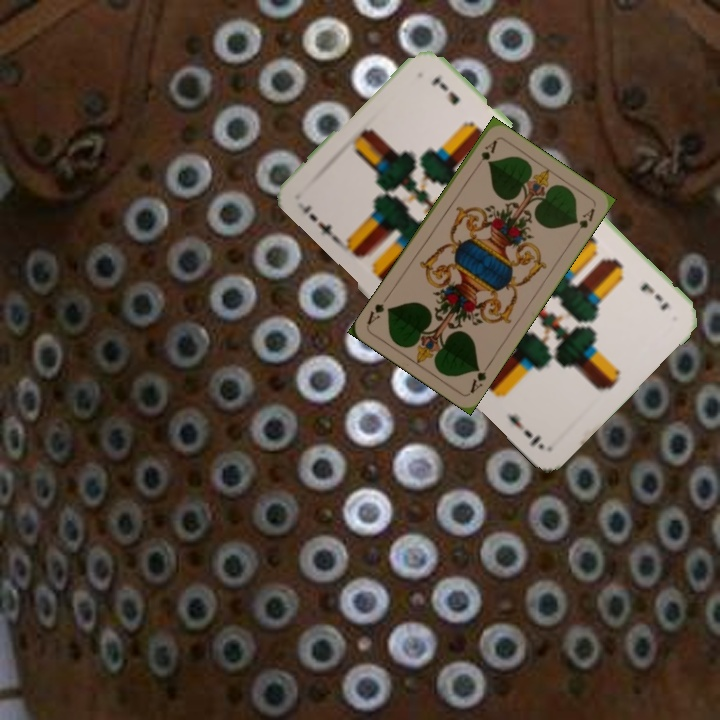E7: (298, 200, 341, 245), (636, 278, 672, 313)
GA: (471, 136, 500, 172), (466, 359, 493, 396)
